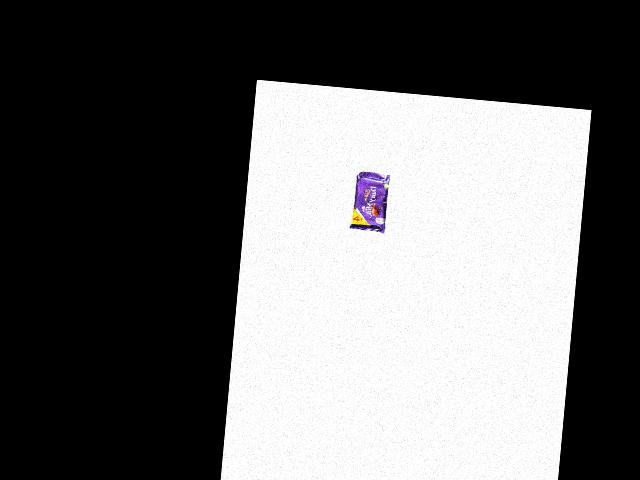chocolate: (349, 168, 395, 240)
